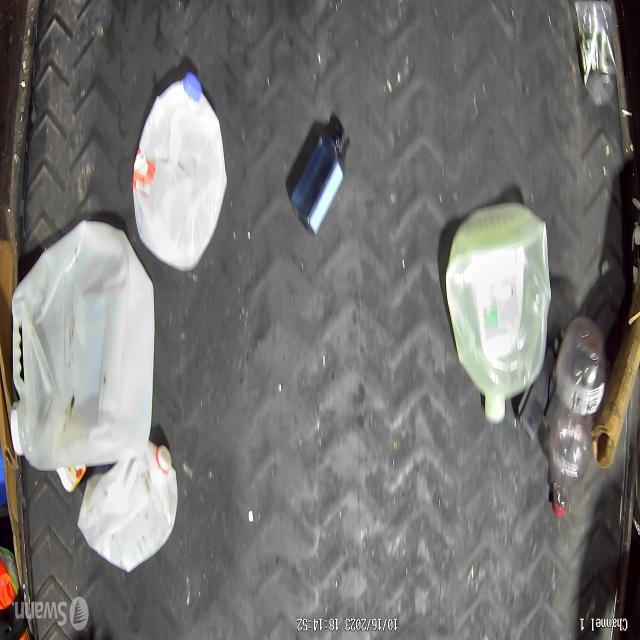milk_jug: (9, 218, 153, 469), (444, 201, 552, 422), (134, 73, 228, 273), (78, 442, 178, 570)
plastic_bottle: (549, 320, 608, 518), (575, 0, 619, 104)
